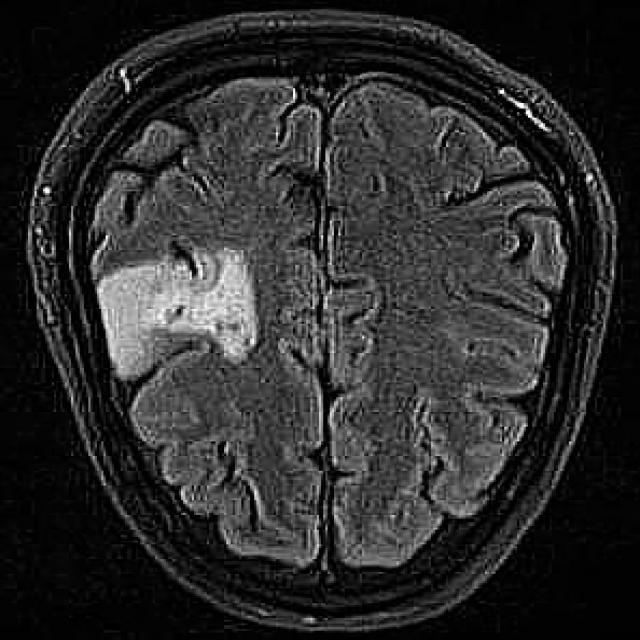Tumor-Cell: (97, 234, 305, 360)
